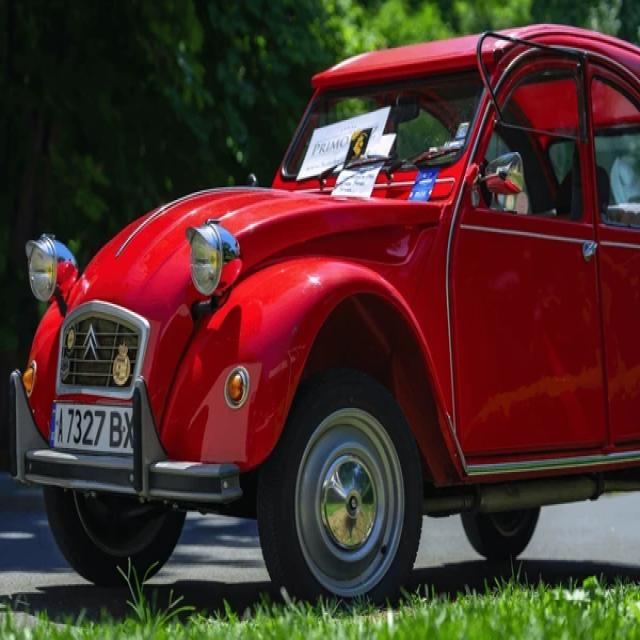citroen: (78, 318, 106, 371)
